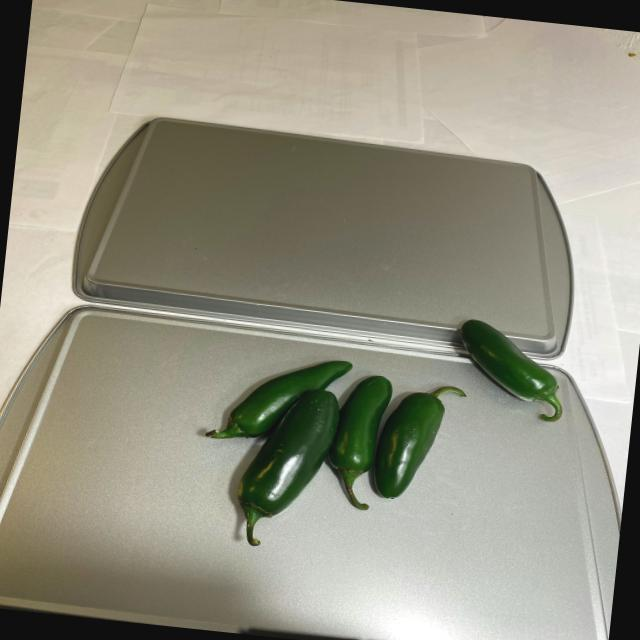chilli: (181, 295, 574, 581)
